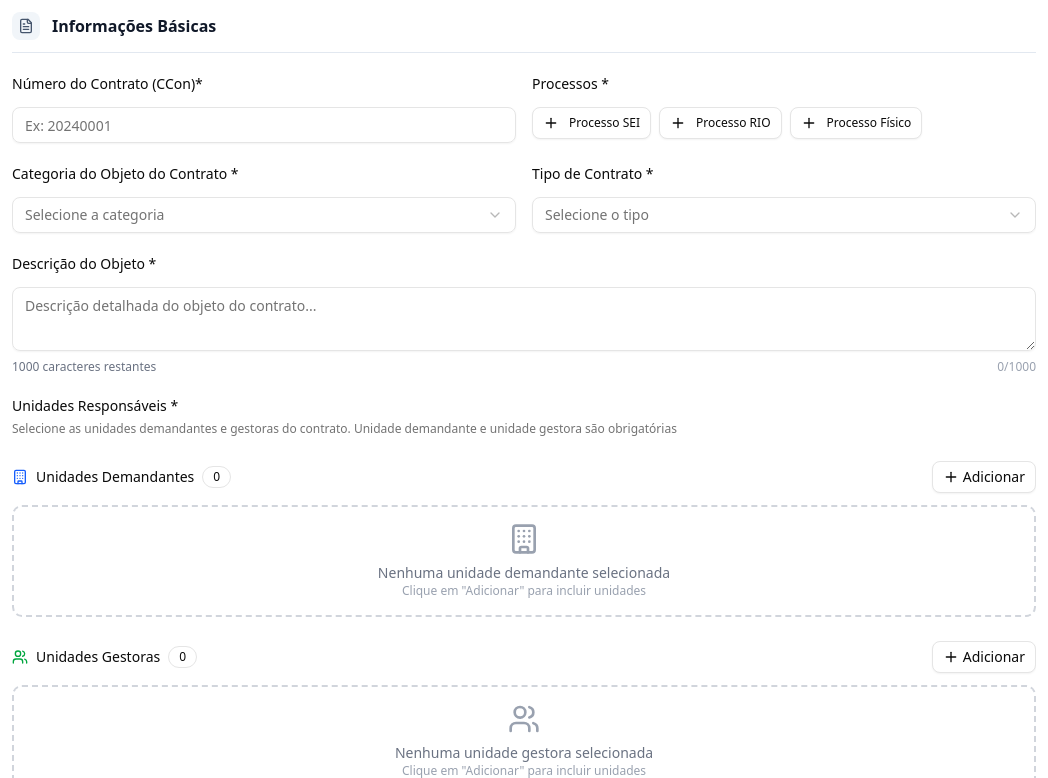
Test: ContratoForm › Funcionalidades de Processos › deve permitir adicionar processos SEI, RIO e Físico
The width and height of the screenshot is (1048, 778).
Check: the button "Processo RIO" is shown, box [659,107,782,139]
Check: the button "Processo Físico" is shown, box [790,107,922,139]
Adicionar um processo SEI
Click the button "Processo SEI" at (592, 123), box [532,107,651,139]
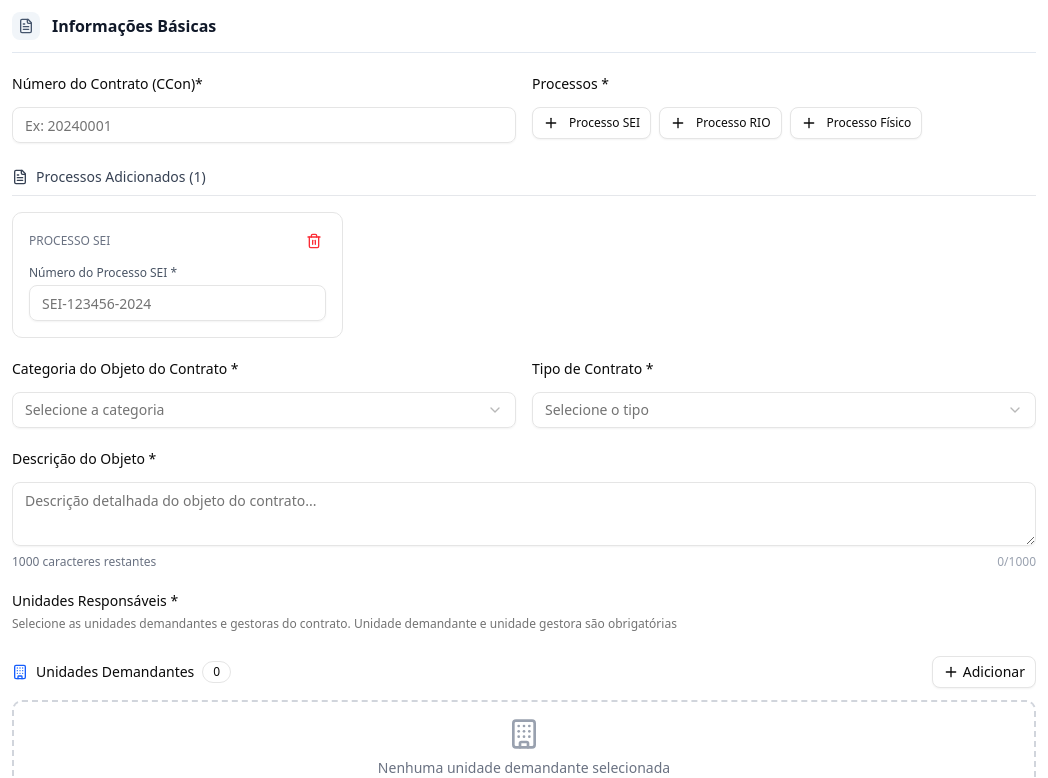
Check: the field with placeholder "SEI-123456-2024" is shown, box [29,285,326,321]
